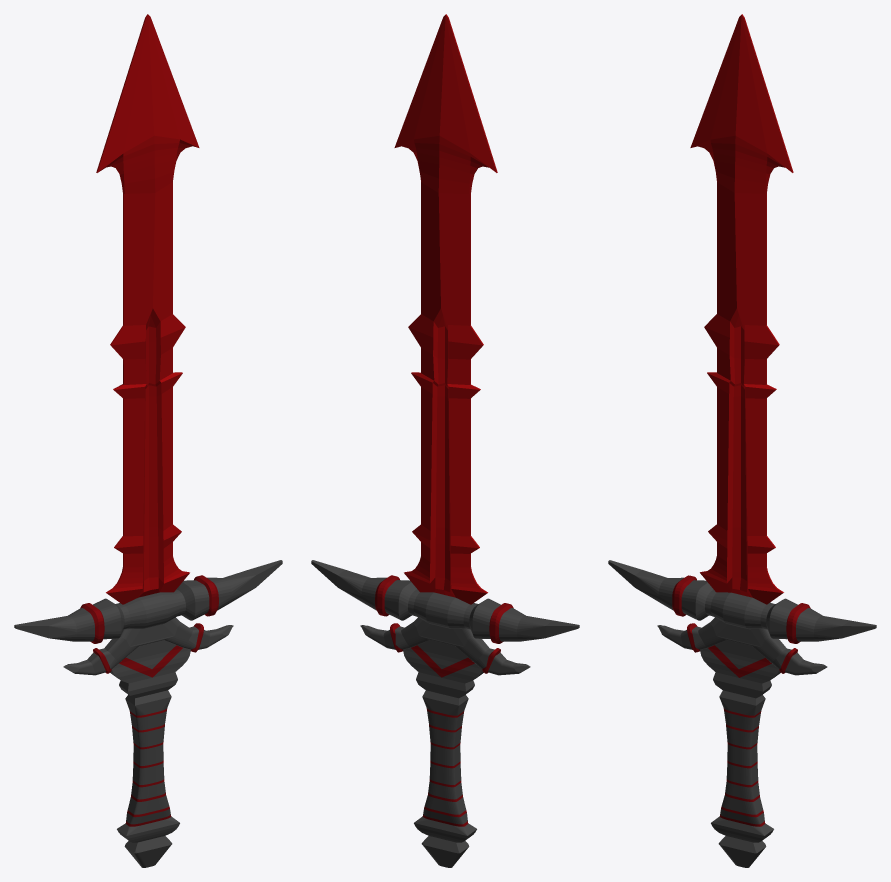
Rendered from Меч_9(Новый материал лезвия).fbx.
3 renders of one model, left to right at view 1: azimuth 30°, elevation 25°; view 2: azimuth 150°, elevation 25°; view 3: azimuth 330°, elevation 25°, orthographic.
Visible parts, largest first — view 1: Куб.001; view 2: Куб.001; view 3: Куб.001.
Boxes of the visible parts, bbox=[...] form: Куб.001: bbox=[14, 14, 282, 867]; Куб.001: bbox=[311, 14, 579, 867]; Куб.001: bbox=[608, 14, 876, 867].
Size of the model in its own units: 86.04 by 262 by 10.89.
